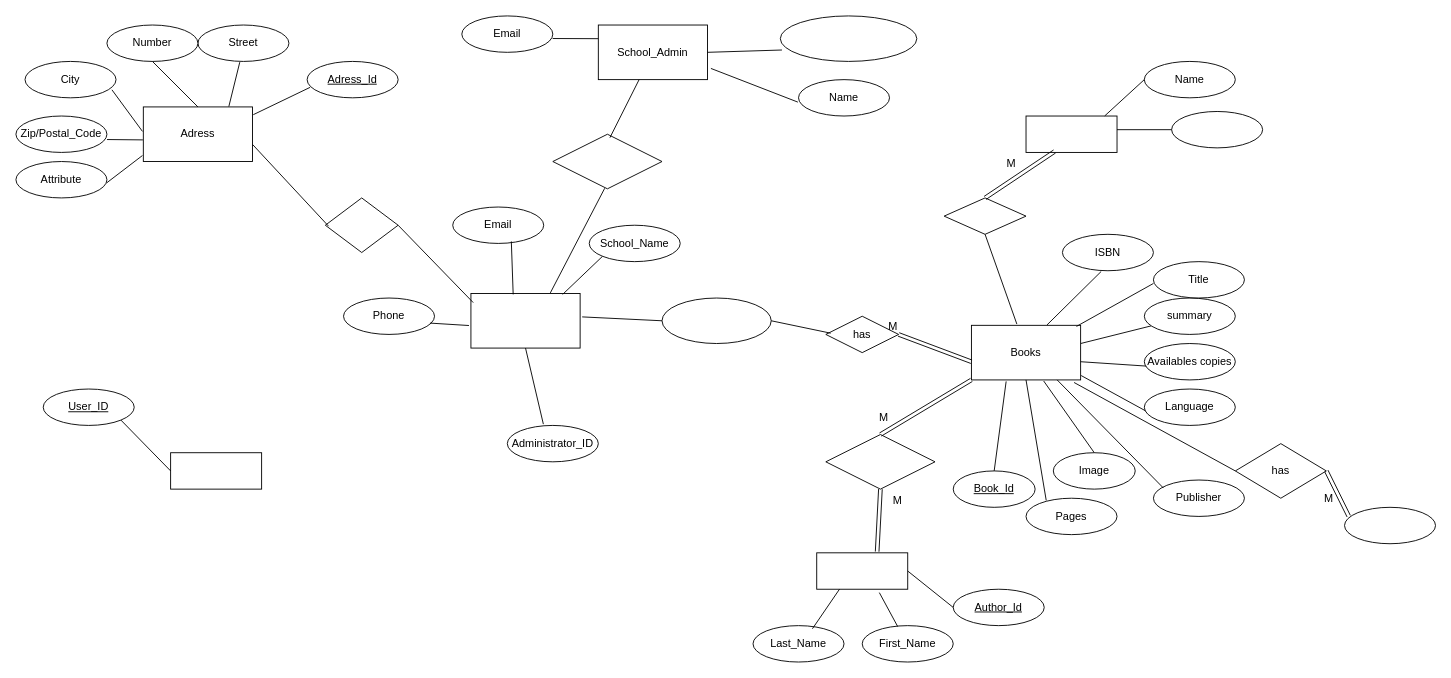
Some shapes in this 1451 by 678 pixel diagram are drawn without their labels. The centre of each missing label's shape, as x and y in pixels:
"Author" belongs at pixel 862 570.
"Categories" belongs at pixel 1071 133.
"Category_Id" belongs at pixel 1217 129.
"has adress" belongs at pixel 361 225.
"idSchool" belongs at pixel 716 320.
"is admin of" belongs at pixel 607 161.
"KeyWords" belongs at pixel 1390 525.
"of" belongs at pixel 984 215.
"School" belongs at pixel 525 320.
"School_Admin_Id" belongs at pixel 848 38.
"User" belongs at pixel 216 470.
"Writen by" belongs at pixel 880 461.
